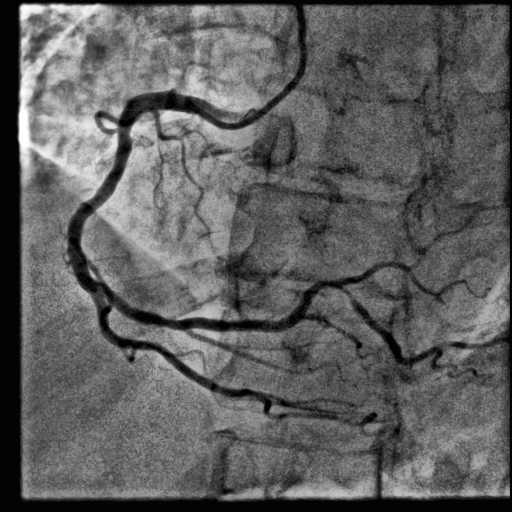pborca: (93, 260, 493, 332)
pda: (86, 290, 387, 437)
rca: (68, 92, 218, 291)
